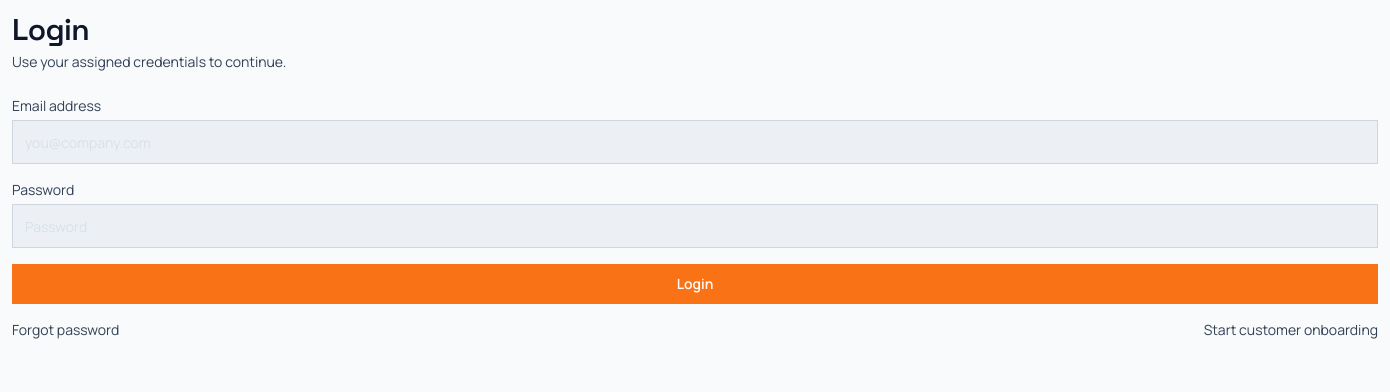
Test: LoginPage › shows backend error when sign in fails
Type "person@example.com" into the field labelled "Email address" at (695, 142), box [12,120,1378,164]
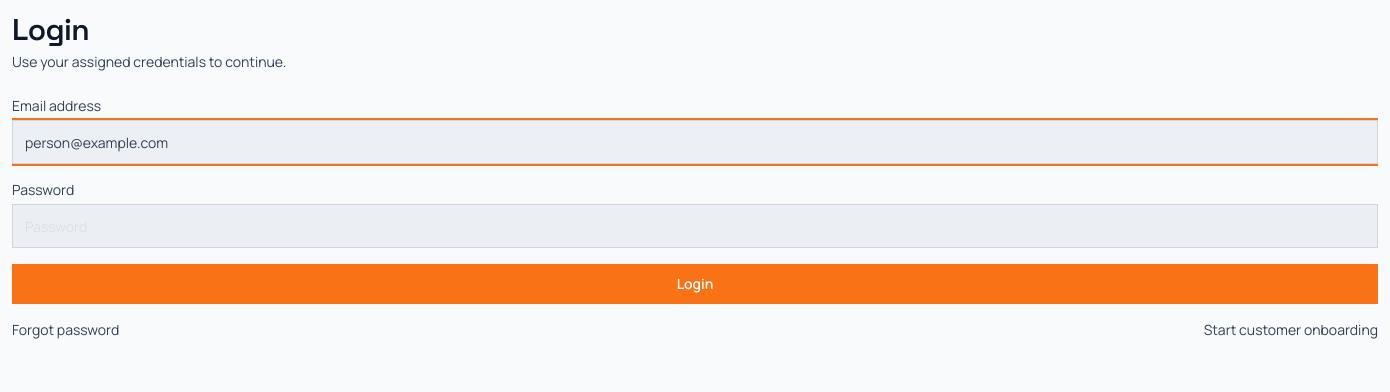
Type "Password123" into the password field labelled "Password" at (695, 226), box [12,204,1378,248]
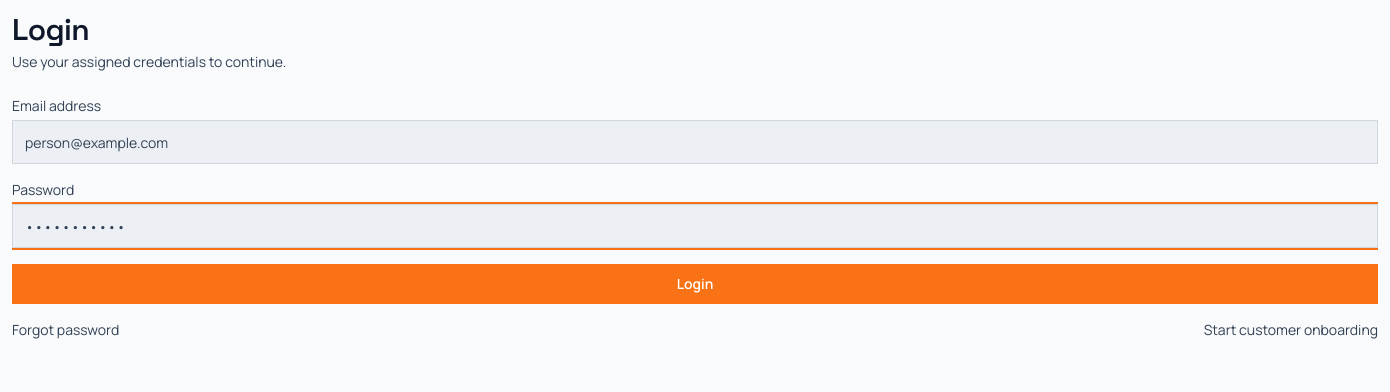
Click the button "Login" at (695, 284), box [12,264,1378,304]
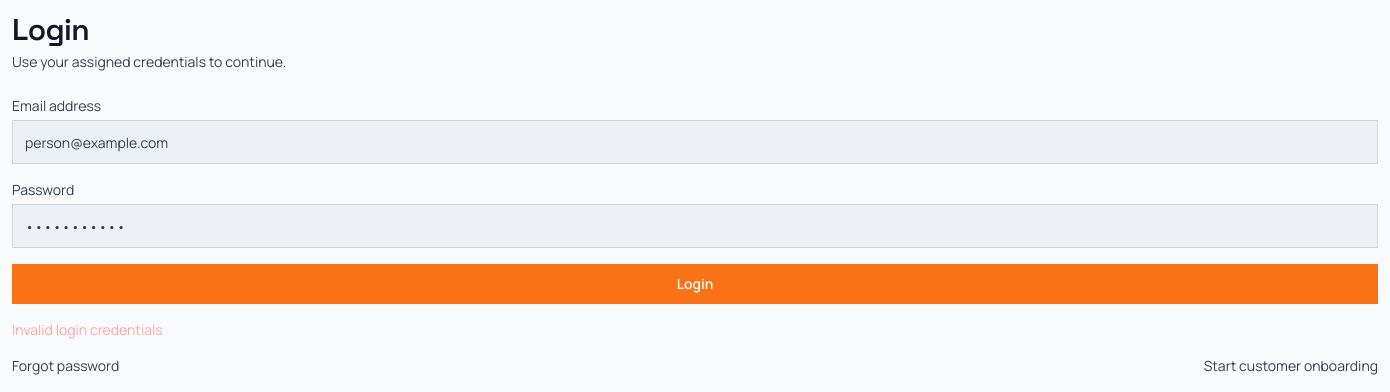
Check: the text "Invalid login credentials" is shown, box [12,320,163,339]
